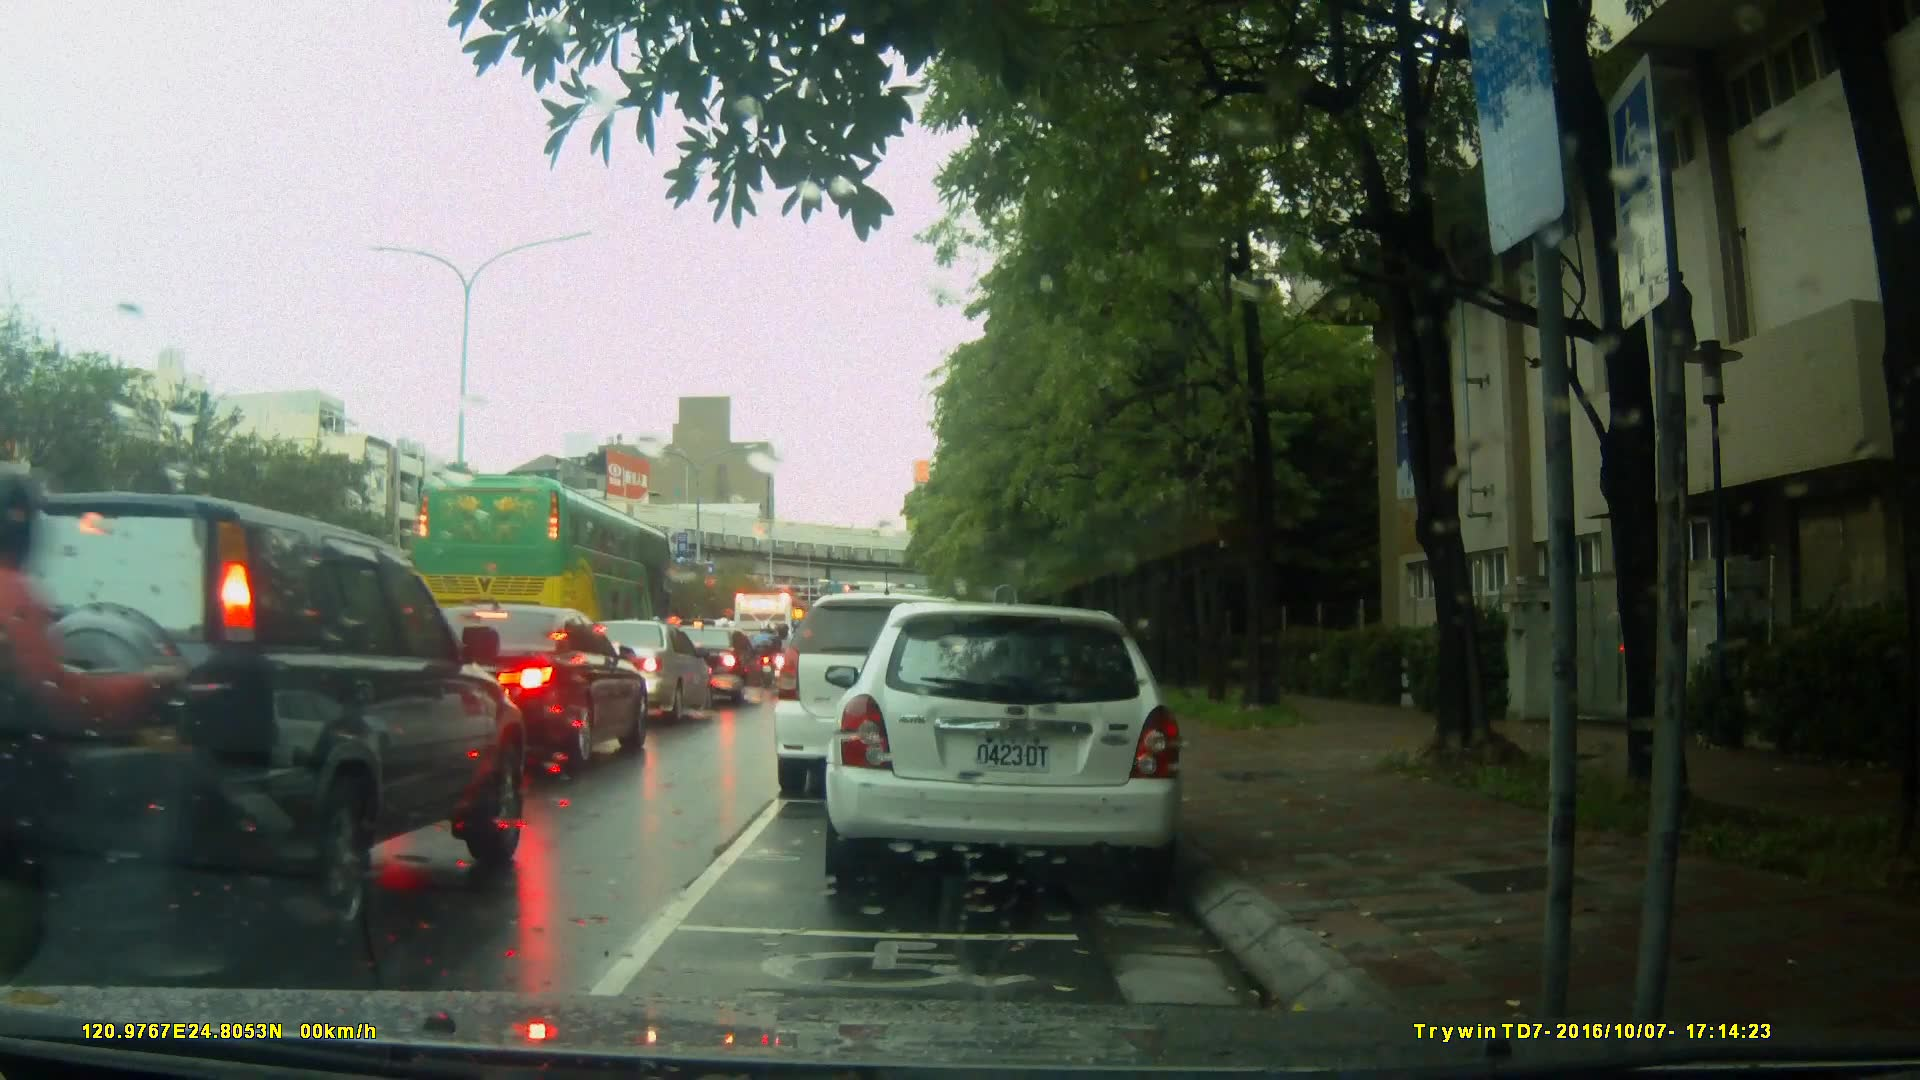rider: (1, 458, 348, 1080)
vehicle: (1, 489, 529, 937), (831, 592, 1196, 897), (404, 474, 677, 659), (775, 596, 999, 801), (392, 604, 655, 772), (568, 618, 715, 723), (669, 626, 767, 708)
